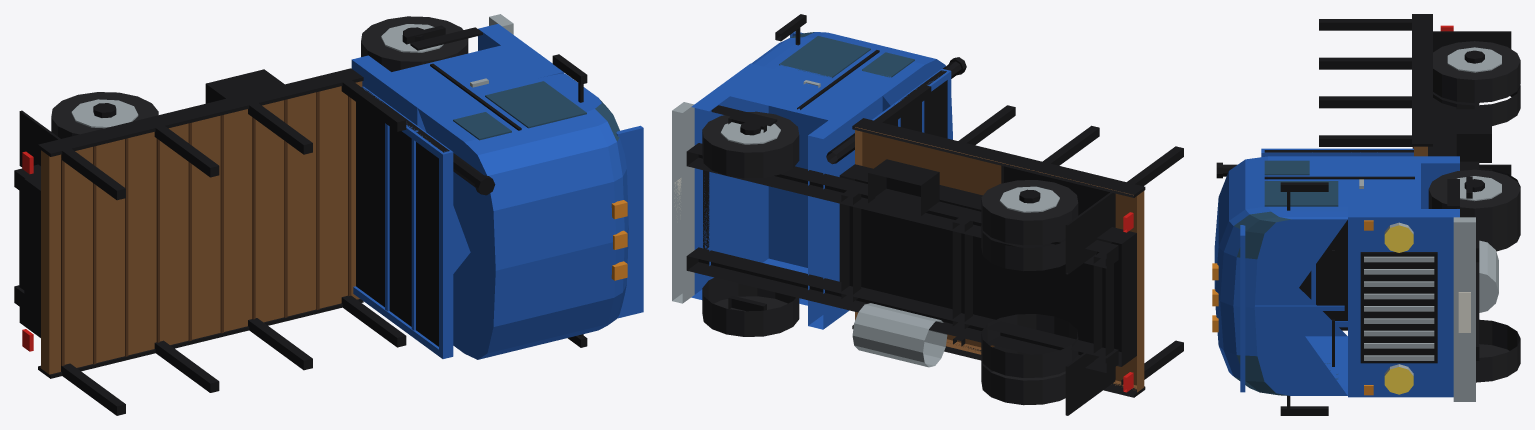
Rendered from empty.glb.
3 renders of one model, left to right at view 1: azimuth 30°, elevation 25°; view 2: azimuth 150°, elevation 25°; view 3: azimuth 270°, elevation 25°, orthographic. The views are drawn at different scales.
Visible parts, largest first — view 1: empty_deck, empty_cab_upper, empty_headboard, empty_cab_arch, empty_side1_-3.60_1.67_black, empty_front1, empty_visor, empty_rear_out1, empty_headboard_top, empty_side_window1, empty_subframe, empty_cab_back (+29 smaller); view 2: empty_subframe, empty_cab_arch, empty_chassis-1, empty_deck, empty_cab_front, empty_cab_back, empty_chassis1, empty_rear_out1, empty_front1, empty_cab_upper, empty_fuel_tank, empty_bumper (+24 smaller); view 3: empty_cab_upper, empty_cab_front, empty_grille, empty_rear_out1, empty_front1, empty_bumper, empty_cab_arch, empty_headboard, empty_side1_-3.60_1.67_black, empty_front-1, empty_battery_box, empty_cab_back (+32 smaller).
Part boxes in pixels (<box>): empty_deck: <box>41,81,362,374</box>; empty_cab_upper: <box>417,73,628,359</box>; empty_headboard: <box>356,87,449,346</box>; empty_cab_arch: <box>392,45,543,273</box>; empty_side1_-3.60_1.67_black: <box>38,68,363,156</box>; empty_front1: <box>361,16,468,71</box>; empty_visor: <box>616,125,643,318</box>; empty_rear_out1: <box>51,92,158,138</box>; empty_headboard_top: <box>439,149,453,358</box>; empty_side_window1: <box>485,81,586,128</box>; empty_subframe: <box>24,174,40,327</box>; empty_cab_back: <box>351,55,433,131</box>; empty_subframe: <box>839,164,1136,366</box>; empty_cab_arch: <box>730,68,866,305</box>; empty_chassis-1: <box>686,247,1118,372</box>; empty_deck: <box>855,127,1144,392</box>; empty_cab_front: <box>691,63,768,299</box>; empty_cab_back: <box>808,92,882,329</box>; empty_chassis1: <box>686,143,1118,268</box>; empty_rear_out1: <box>981,180,1078,245</box>; empty_front1: <box>702,111,799,178</box>; empty_cab_upper: <box>751,32,952,139</box>; empty_fuel_tank: <box>852,303,947,367</box>; empty_bumper: <box>672,102,694,303</box>; empty_cab_upper: <box>1214,156,1347,395</box>; empty_cab_front: <box>1348,209,1459,397</box>; empty_grille: <box>1360,252,1437,363</box>; empty_rear_out1: <box>1433,41,1520,103</box>; empty_front1: <box>1428,169,1520,232</box>; empty_bumper: <box>1453,217,1475,401</box>; empty_cab_arch: <box>1348,163,1420,208</box>; empty_headboard: <box>1264,150,1413,320</box>; empty_side1_-3.60_1.67_black: <box>1412,14,1432,146</box>; empty_front-1: <box>1476,319,1520,382</box>; empty_battery_box: <box>1456,109,1491,162</box>; empty_cab_back: <box>1348,156,1459,208</box>.
Size of the model in its own units: 7.61 by 3.98 by 4.82.
